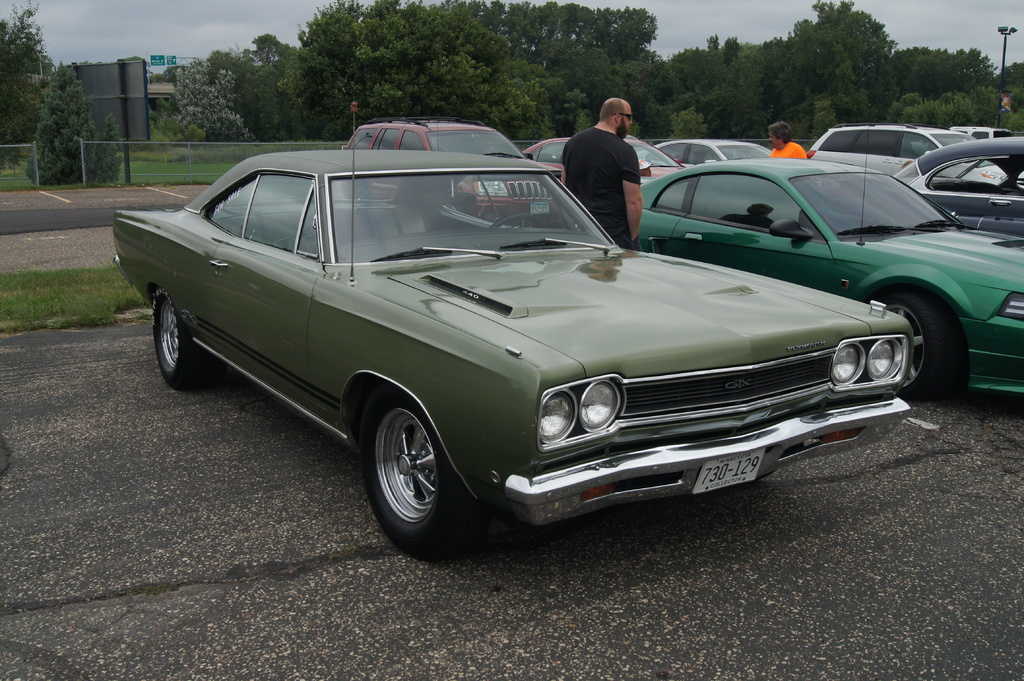Car: (113, 123, 1023, 564)
